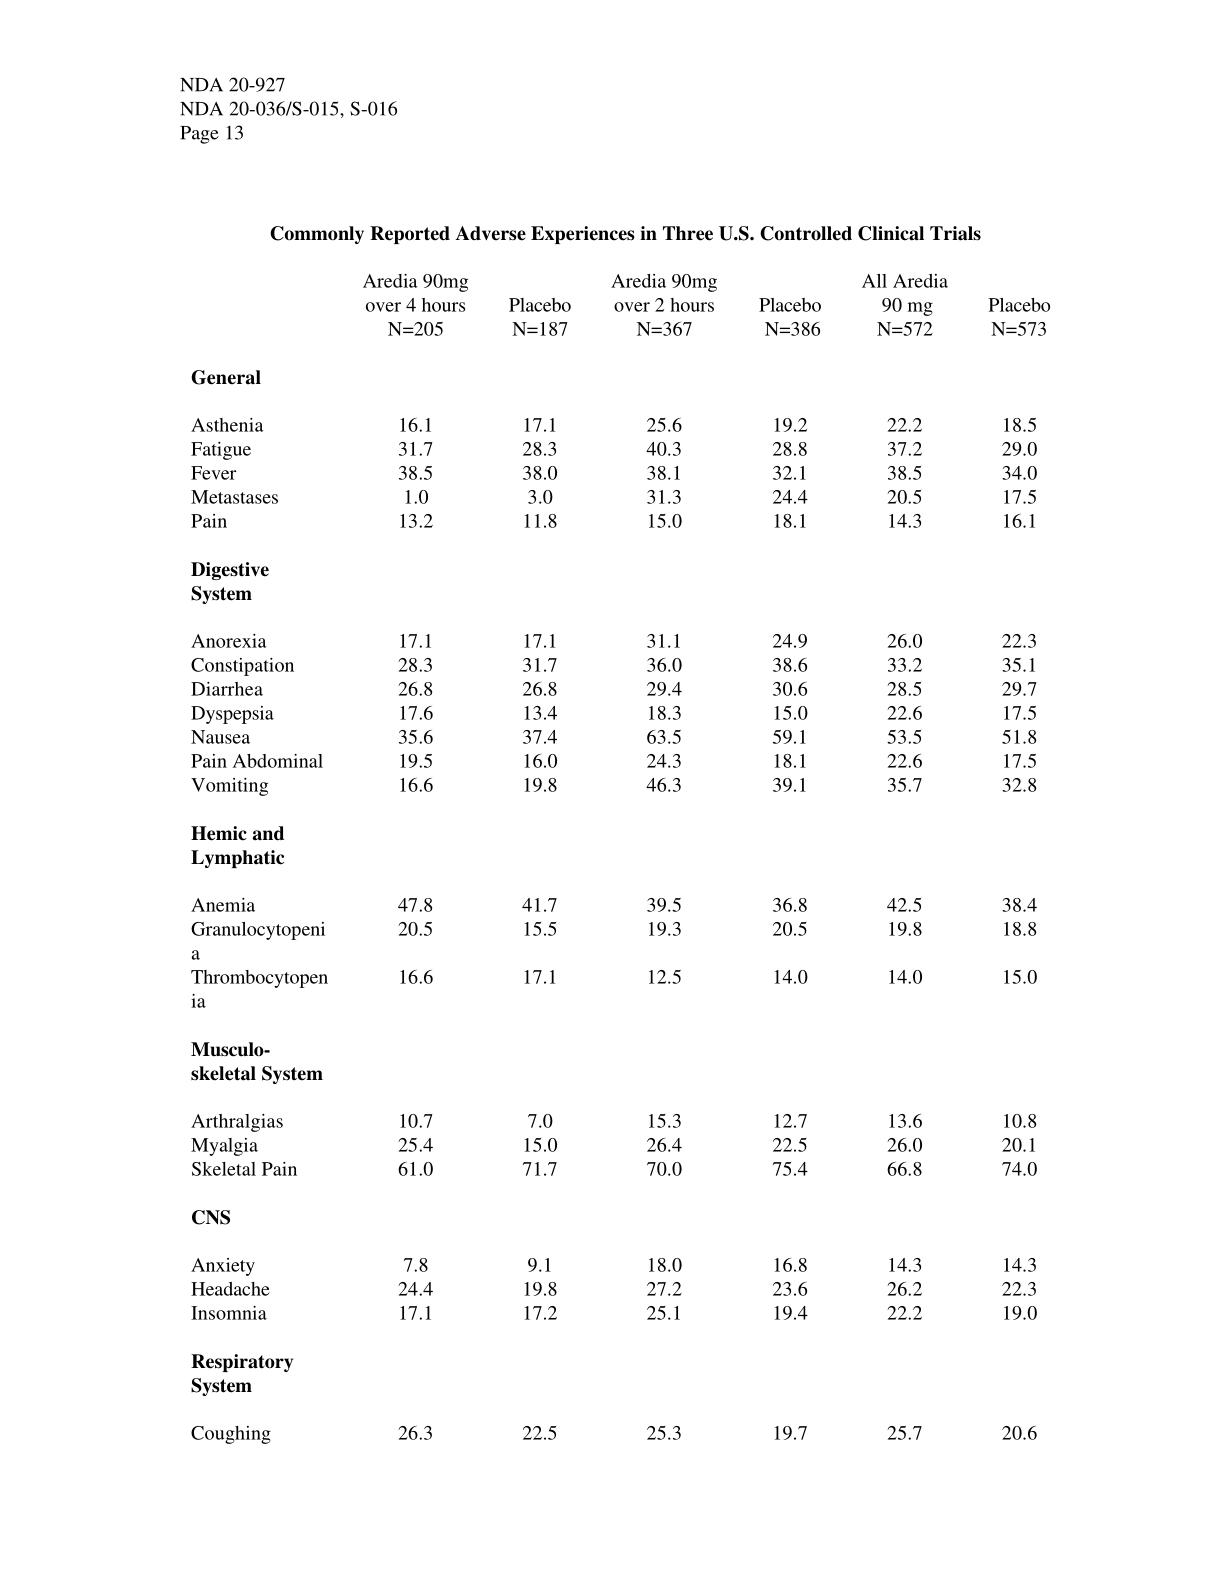nolines: (185, 267, 1057, 1446)
